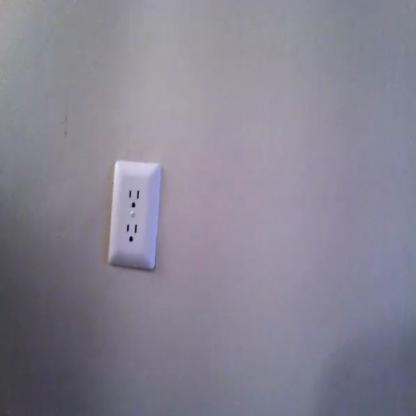OUTLET: (110, 161, 157, 270)
